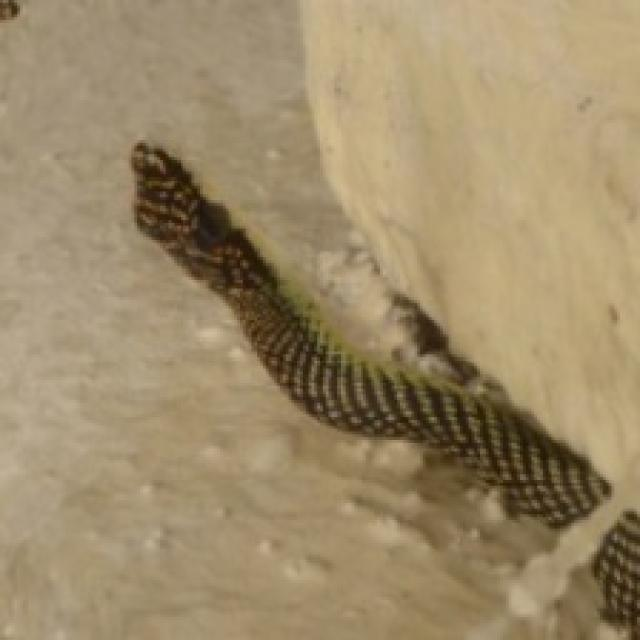paradise tree snake: (131, 143, 609, 526)
